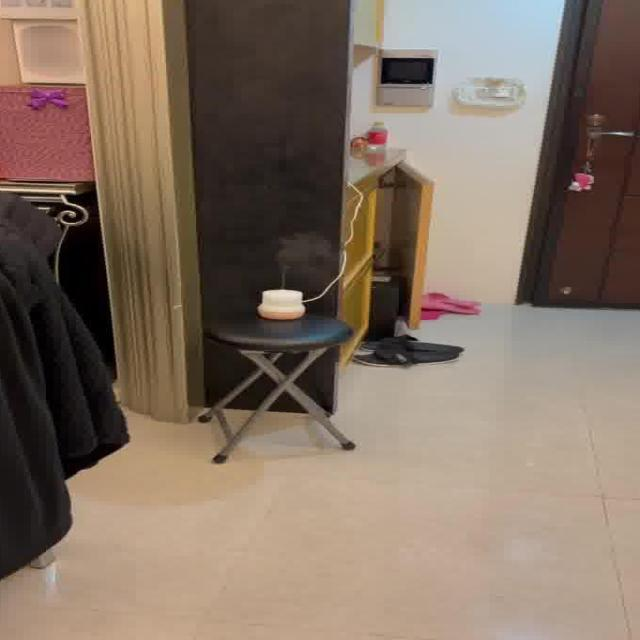fire: (269, 230, 326, 280)
